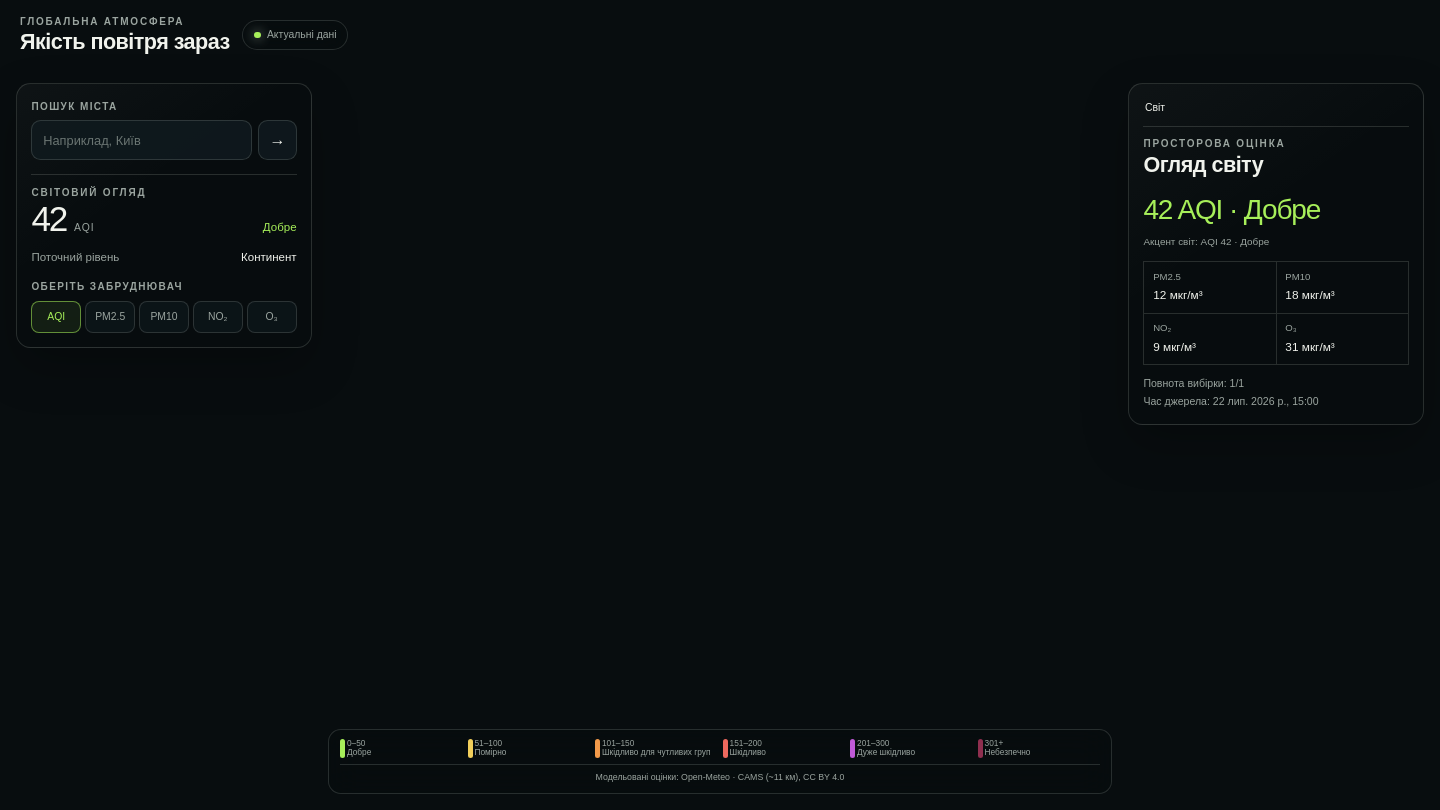
Scenario: air quality globe shell › keeps only named finite WGS84 geocoding results
The image size is (1440, 810).
In the search field labelled "Пошук міста": point(142, 140) [31, 120, 252, 160], type "Київ"
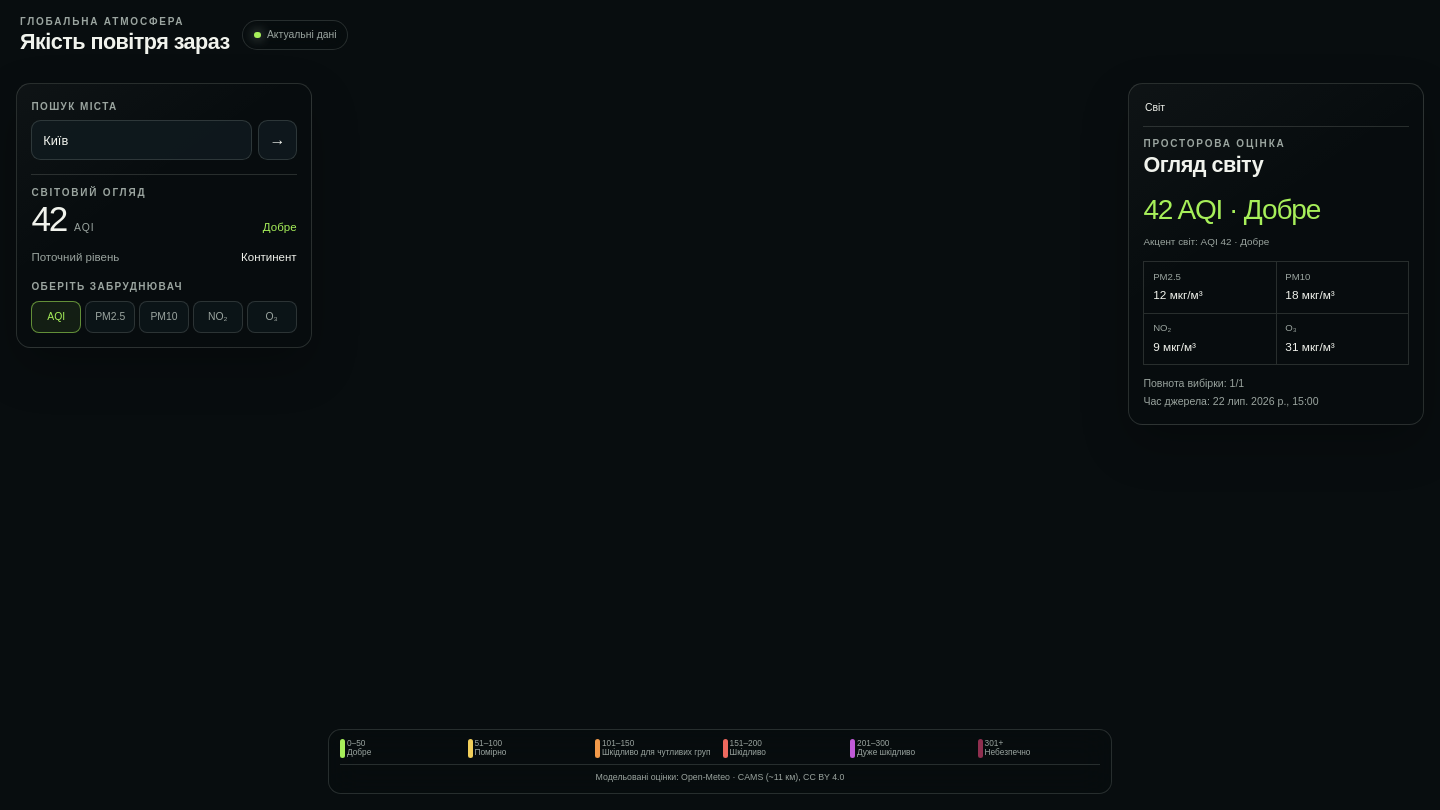
Click the button named "Знайти місто": point(277, 140) [258, 120, 297, 160]
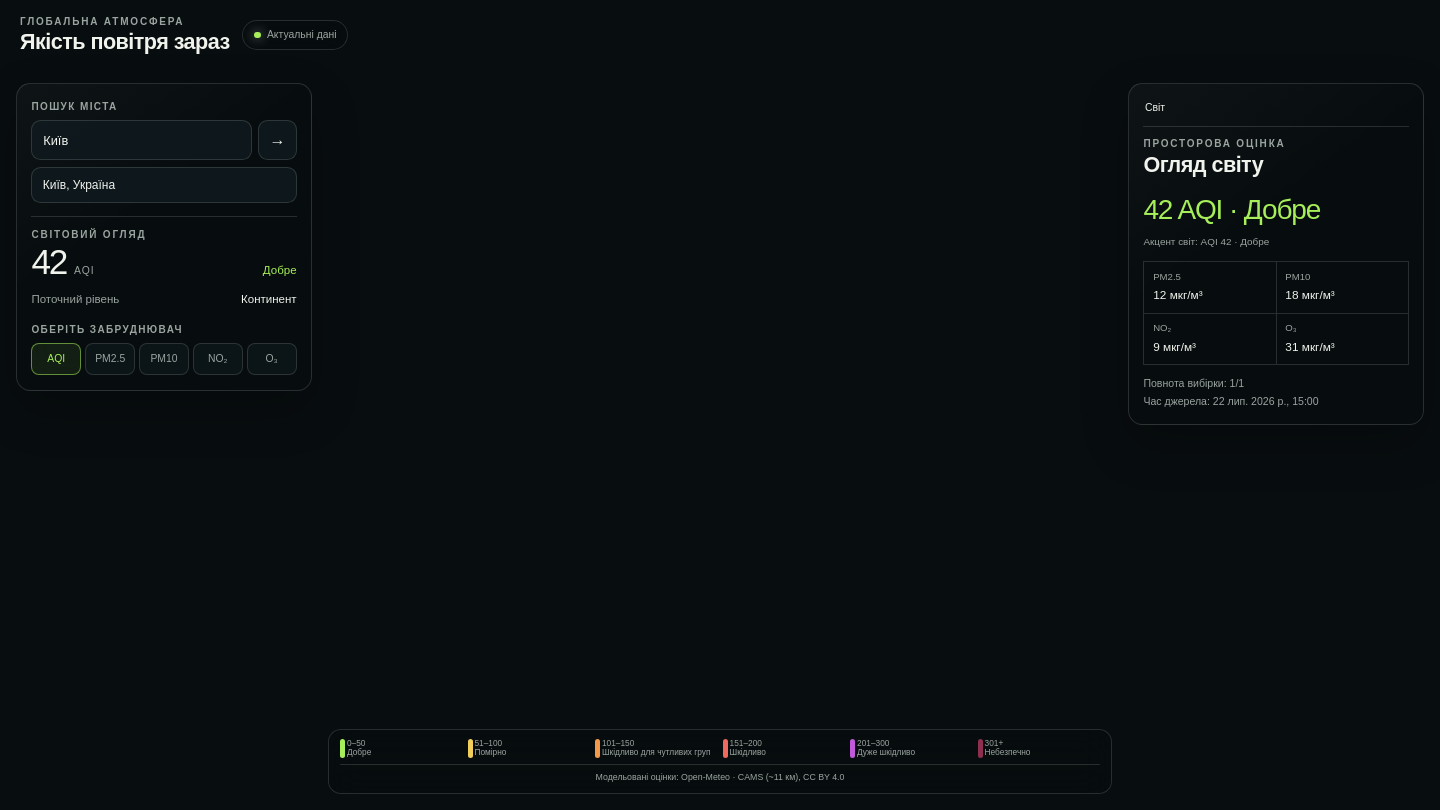
Check: the button "Київ, Україна" is shown, box [31, 167, 297, 203]
